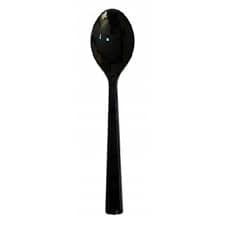spoon: (87, 5, 138, 217)
